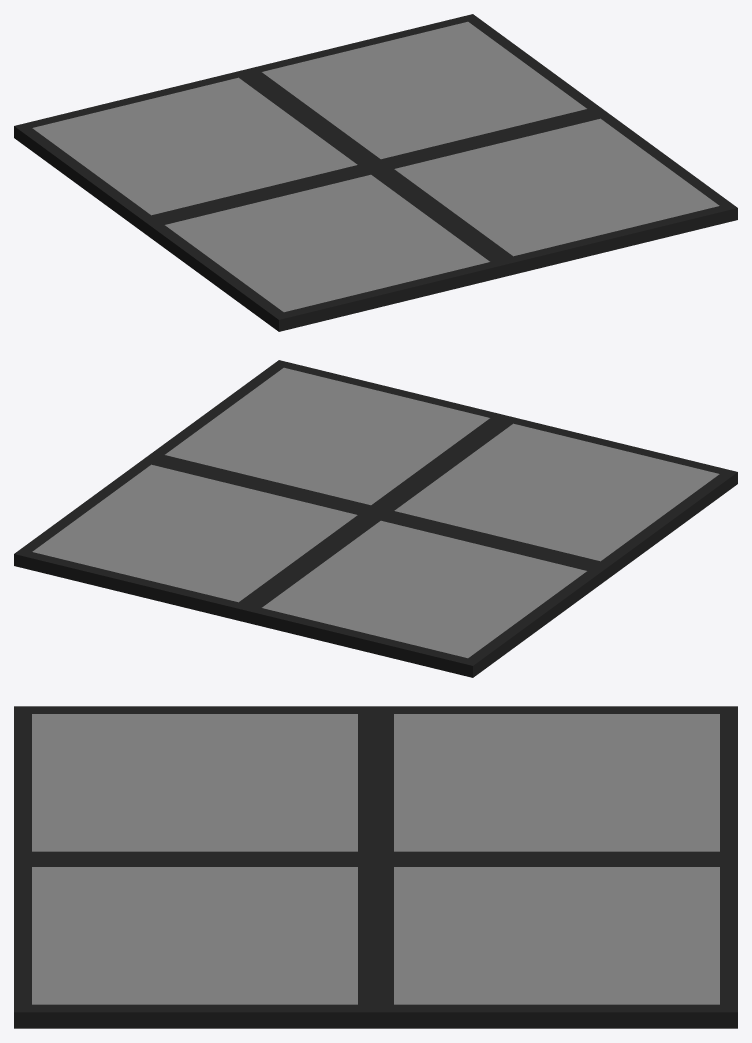
The model's file is ground.obj.
3 views of the same model, one above another, from view 1: azimuth 30°, elevation 25°; view 2: azimuth 150°, elevation 25°; view 3: azimuth 270°, elevation 25° (orthographic). The views are drawn at different scales.
Size of the model in its own units: 4 by 0.1 by 4.
1 material, 1 textured.
